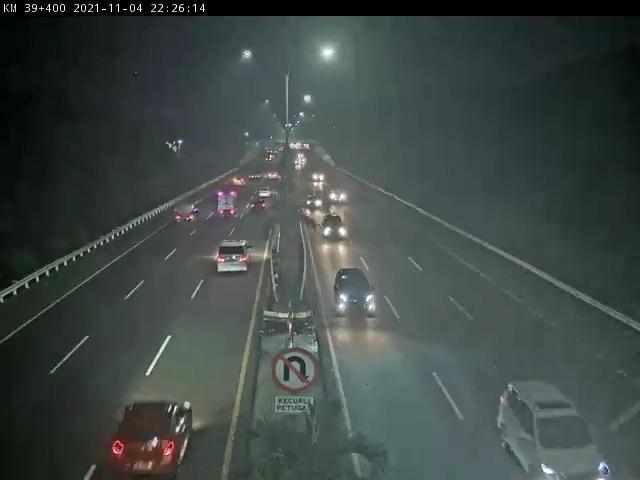car: (486, 376, 608, 478), (112, 399, 194, 469), (343, 267, 383, 316), (213, 245, 257, 278), (323, 216, 349, 240), (330, 191, 352, 208), (252, 197, 270, 214), (307, 195, 325, 209), (313, 173, 327, 190), (261, 186, 271, 201)
truck: (217, 190, 242, 220), (175, 201, 199, 221)
